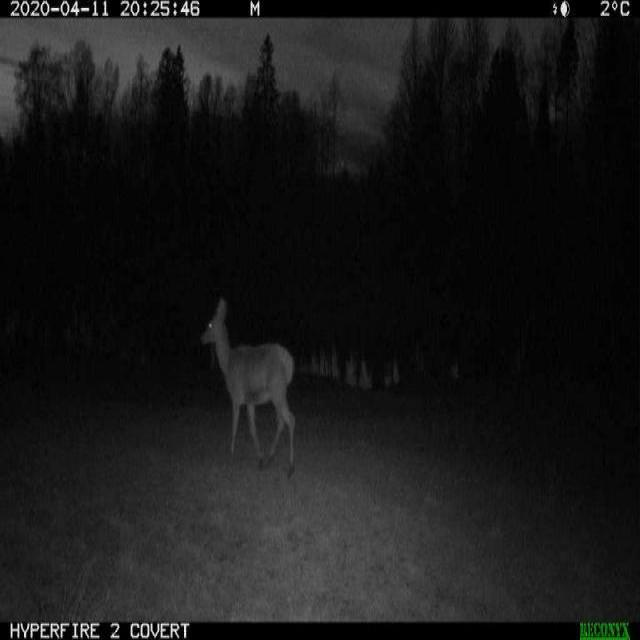deer: (194, 285, 308, 479)
